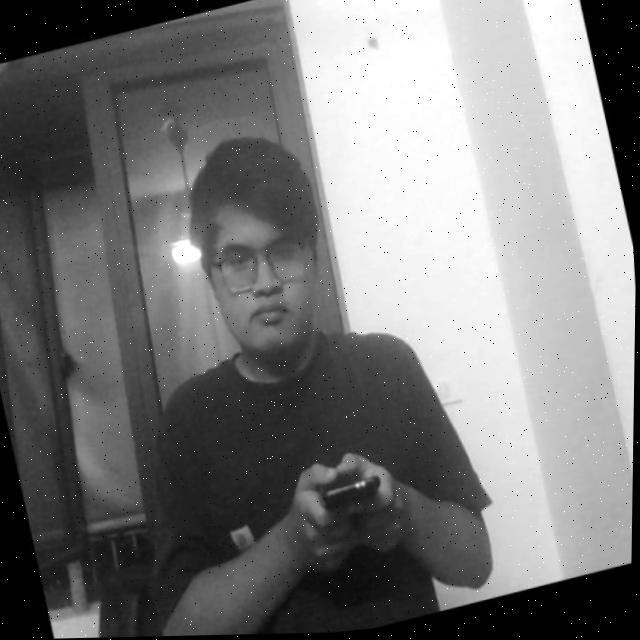phone: (302, 467, 392, 532)
